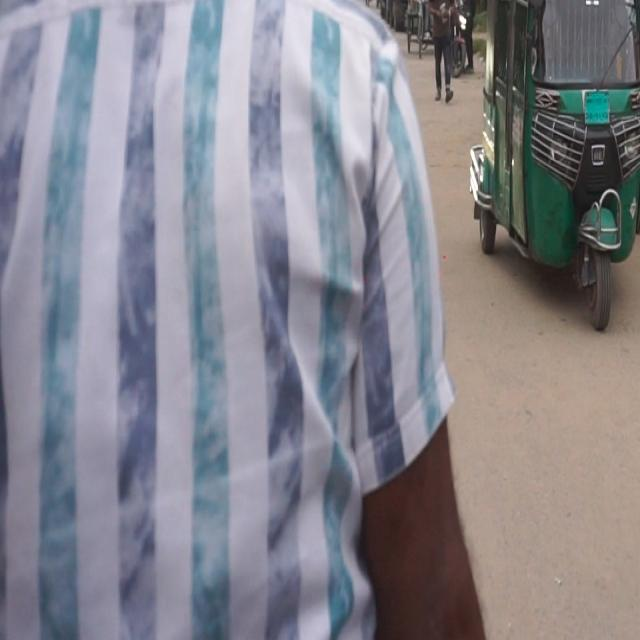van: (618, 0, 640, 242)
